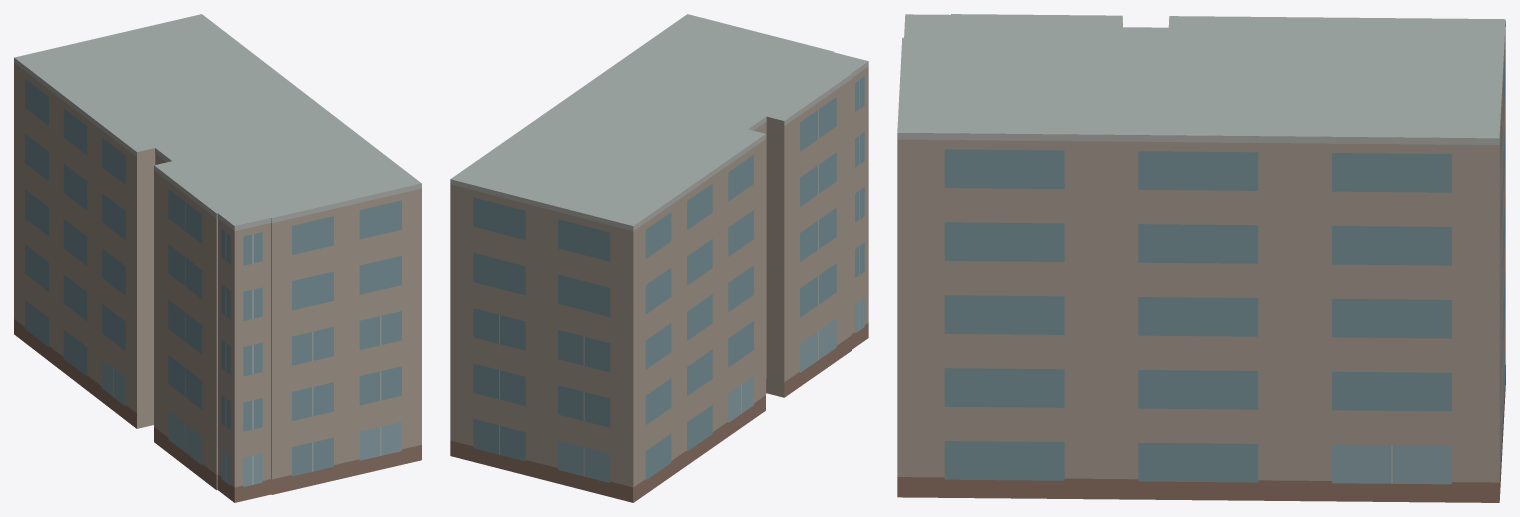
Rendered from survey-upis-32963574.glb.
3 renders of one model, left to right at view 1: azimuth 30°, elevation 25°; view 2: azimuth 150°, elevation 25°; view 3: azimuth 270°, elevation 25°, orthographic. The views are drawn at different scales.
Parts seen in each view (by area): view 1: survey-upis-32963574.tmp; view 2: survey-upis-32963574.tmp; view 3: survey-upis-32963574.tmp.
Part boxes in pixels (x1,y1,x2,y2): survey-upis-32963574.tmp: [14, 14, 421, 502]; survey-upis-32963574.tmp: [450, 14, 868, 502]; survey-upis-32963574.tmp: [897, 14, 1505, 502].
Bounding box in the file's own units: 9.66 × 13.2 × 19.98.
